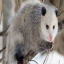opossum: (6, 3, 58, 60)
